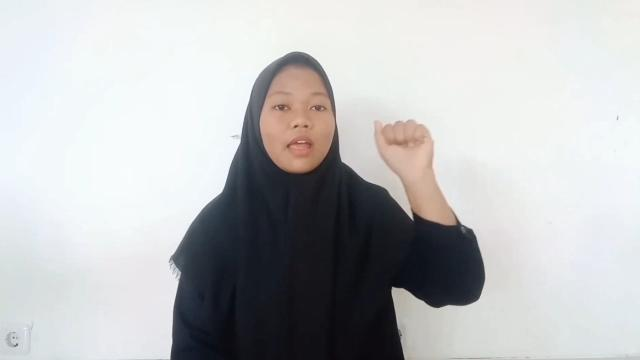A: (370, 118, 440, 188)
